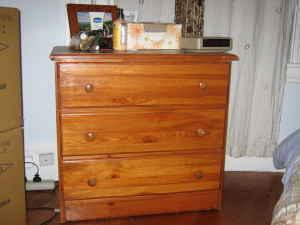Armario: (48, 53, 232, 213)
